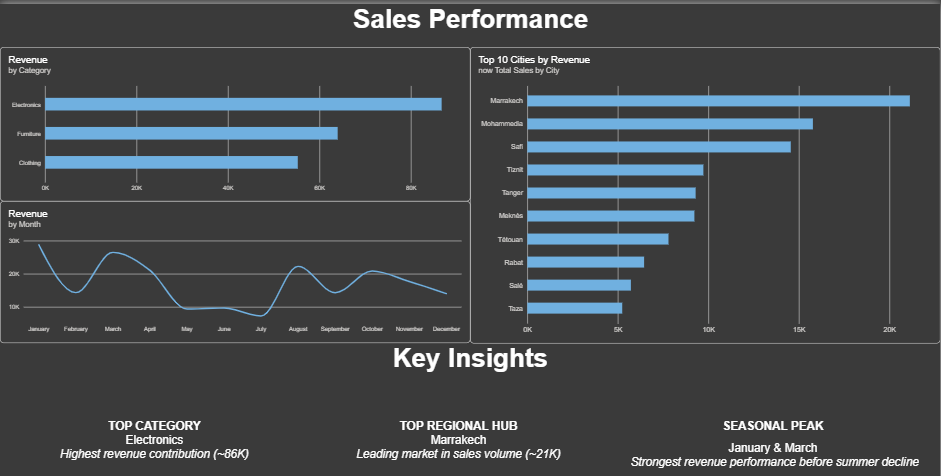

The page's visual inventory and layout, read from the dashboard file:
{"tool":"powerbi","page":{"name":"Page 2","canvas":[1920,1080],"ordinal":1},"visuals":[{"type":"textbox","box":[0,0,1921.1,86.8],"z":0},{"type":"barChart","title":"Top 10 Cities by Revenue","fields":{"Y":["Ecommerce_Analysis.now Total Sales"],"Category":["Ecommerce_Joined.City"]},"box":[960,87.5,960,605],"z":2000},{"type":"barChart","fields":{"Category":["Ecommerce_Analysis.Category"],"Y":["Sum(Ecommerce_Analysis.Revenue)"]},"box":[0,87.5,960,315],"z":2001},{"type":"lineChart","fields":{"Category":["Ecommerce_Analysis.Order_Date.Variation.Date Hierarchy.Month"],"Y":["Sum(Ecommerce_Analysis.Revenue)"]},"box":[0,402.5,960,290],"z":2002},{"type":"textbox","box":[0,692.5,1920,122.5],"z":2003},{"type":"textbox","box":[0,816.7,630,263.3],"z":2004},{"type":"textbox","box":[630,816.7,610,263.3],"z":2005},{"type":"textbox","box":[1240,816.7,680,263.3],"z":2006}]}

Visuals, with their boxes on the page's 1920x1080 design canvas (x1, y1, x2, y2). These are canvas units, not pixel positions in the 941x476 screenshot, which may show the page scaled, cropped or inside an application window:
textbox: l=0, t=0, r=1921, b=87
"Top 10 Cities by Revenue" barChart: l=960, t=88, r=1920, b=692
barChart - Ecommerce_Analysis.Category x Sum(Ecommerce_Analysis.Revenue): l=0, t=88, r=960, b=402
lineChart - Ecommerce_Analysis.Order_Date.Variation.Date Hierarchy.Month x Sum(Ecommerce_Analysis.Revenue): l=0, t=402, r=960, b=692
textbox: l=0, t=692, r=1920, b=815
textbox: l=0, t=817, r=630, b=1080
textbox: l=630, t=817, r=1240, b=1080
textbox: l=1240, t=817, r=1920, b=1080
